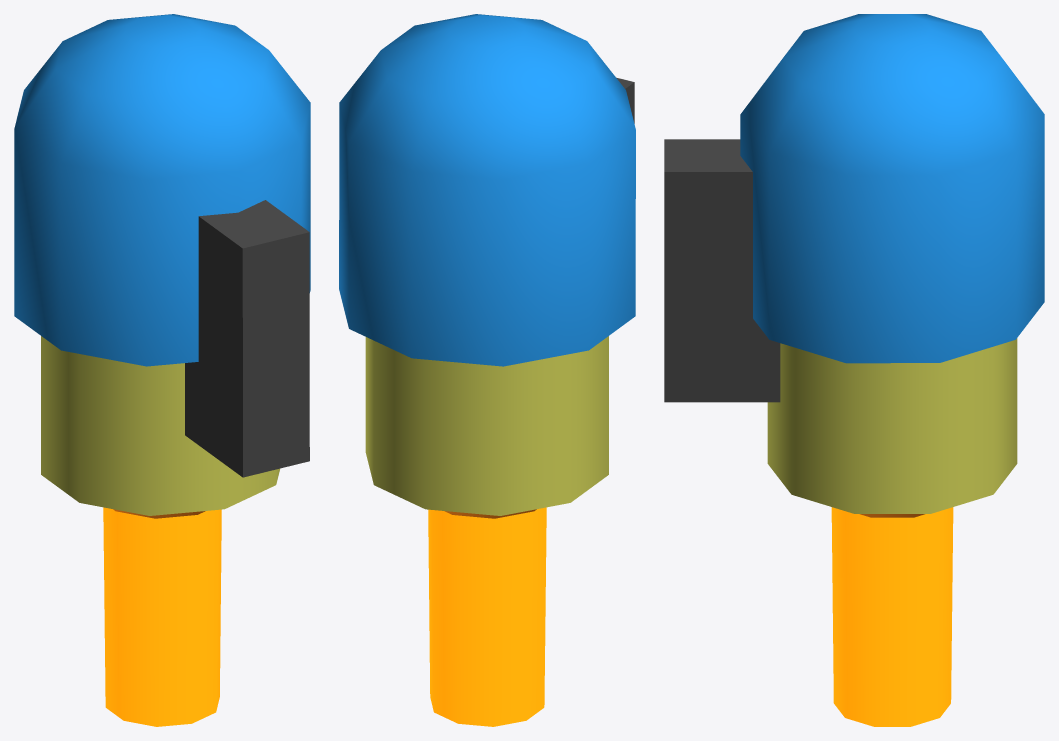
The model's file is directional.glb.
The picture shows the model from 3 angles, left to right: view 1: azimuth 30°, elevation 25°; view 2: azimuth 150°, elevation 25°; view 3: azimuth 270°, elevation 25°; orthographic projection.
Parts seen in each view (by area): view 1: Cylinder.031, boost-part.012; view 2: Cylinder.031, boost-part.012; view 3: Cylinder.031, boost-part.012.
Boxes of the visible parts, bbox=[...] form: Cylinder.031: bbox=[14, 14, 310, 518]; boost-part.012: bbox=[103, 507, 221, 726]; Cylinder.031: bbox=[339, 14, 635, 518]; boost-part.012: bbox=[428, 507, 546, 726]; Cylinder.031: bbox=[664, 14, 1044, 517]; boost-part.012: bbox=[831, 507, 953, 726].
Bounding box in the file's own units: 0.1072 × 0.2751 × 0.1409.
